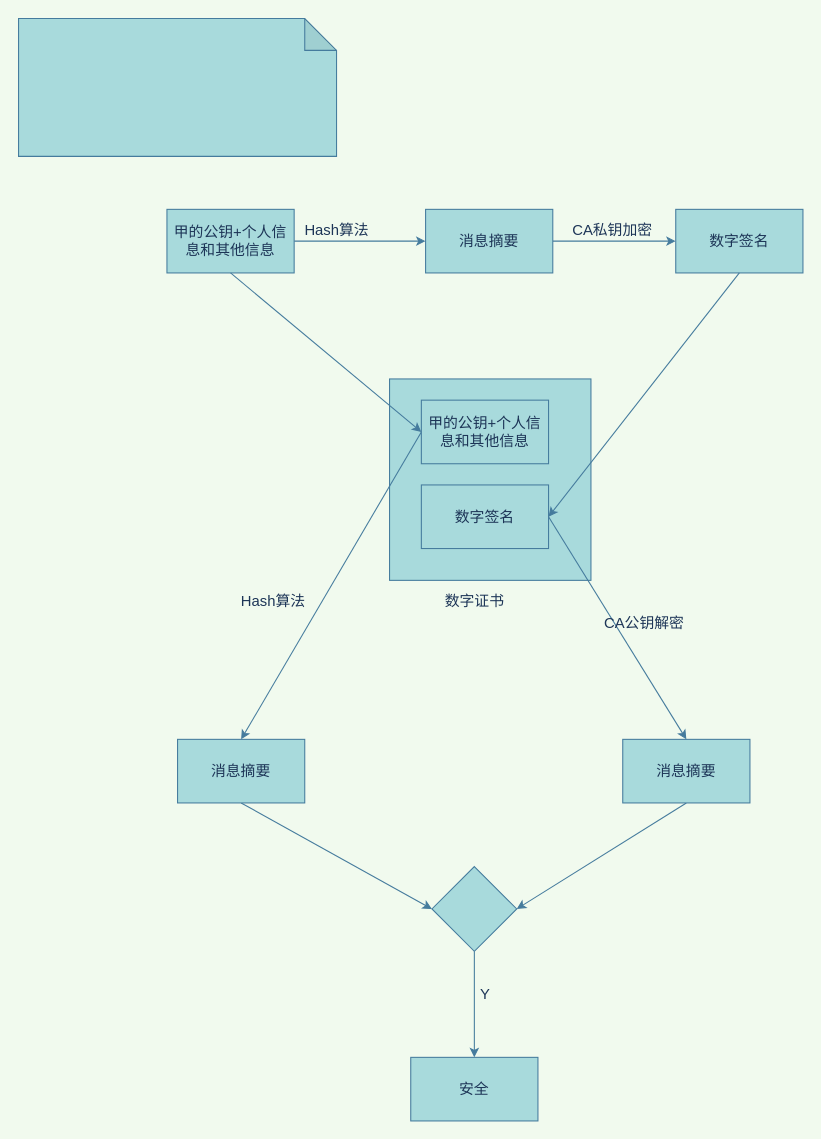
The diagram is 821 pixels wide and 1139 high, and some of its shapes have lost their labels. The shapes that lost their labels are listed below. From the top down, each one's centre as x and y in pixels, then its label:
(177,86): Hash具有不可逆性、抗冲突性（不存在Hash(a) = Hash(b) ）。常用的有MD5、SHA 浏览器有CA证书列表
(474,908): 是否一样？
